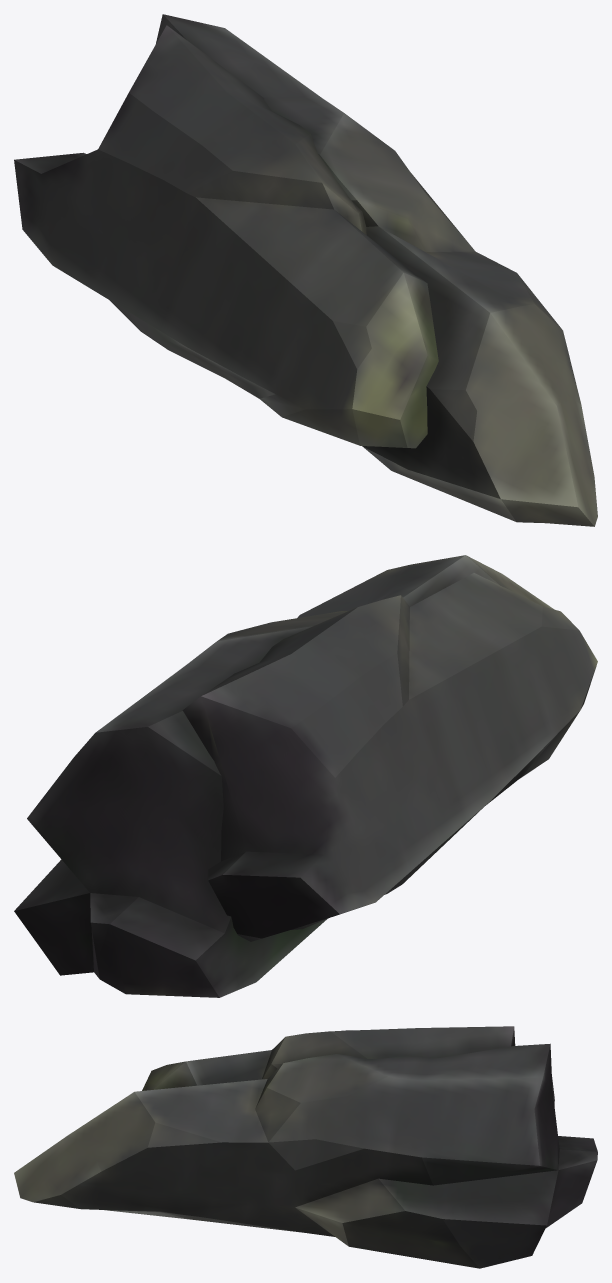
File: Rock_4.glb
3 renders of one model, top to bottom at view 1: azimuth 30°, elevation 25°; view 2: azimuth 150°, elevation 25°; view 3: azimuth 270°, elevation 25°, orthographic. The views are drawn at different scales.
Parts seen in each view (by area): view 1: Rock_4; view 2: Rock_4; view 3: Rock_4.
Part boxes in pixels (x1,y1,x2,y2): Rock_4: (14, 14, 597, 526); Rock_4: (14, 555, 597, 997); Rock_4: (14, 1026, 597, 1268).
Size of the model in its own units: 0.8592 by 0.8124 by 2.15.
Materials: 1 (1 with a texture image).
